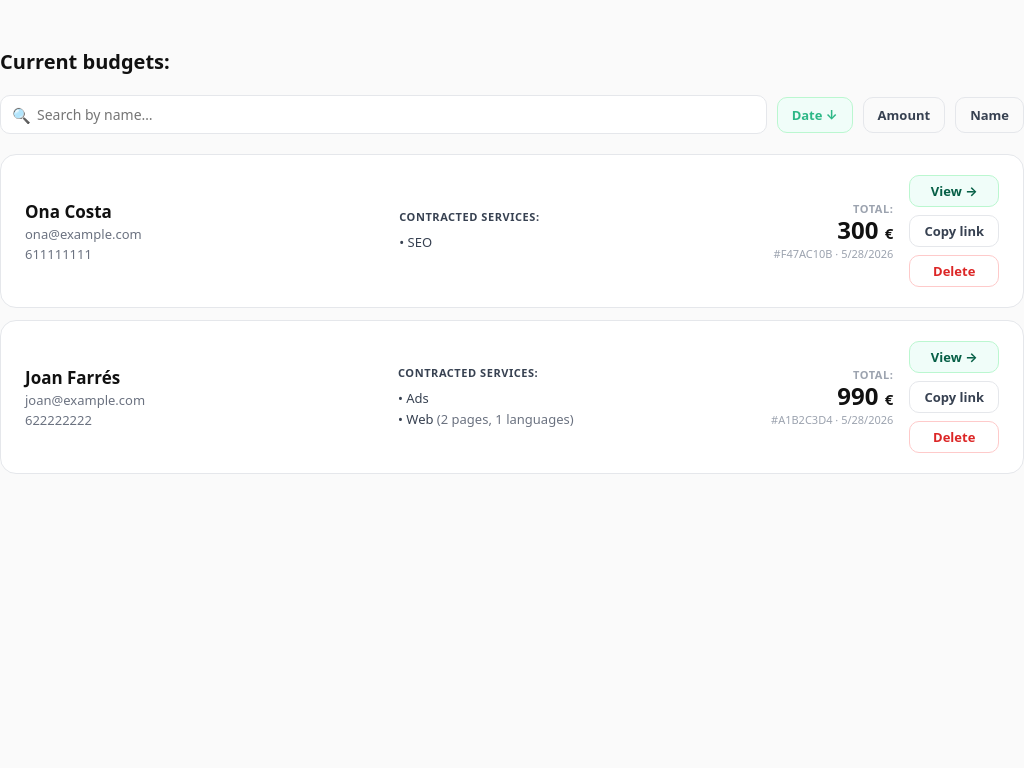
Test: BudgetList › shows the delete modal when delete button is clicked
Click the button "Delete" in the row of "F47AC10B" at (954, 271), box [909,255,999,287]
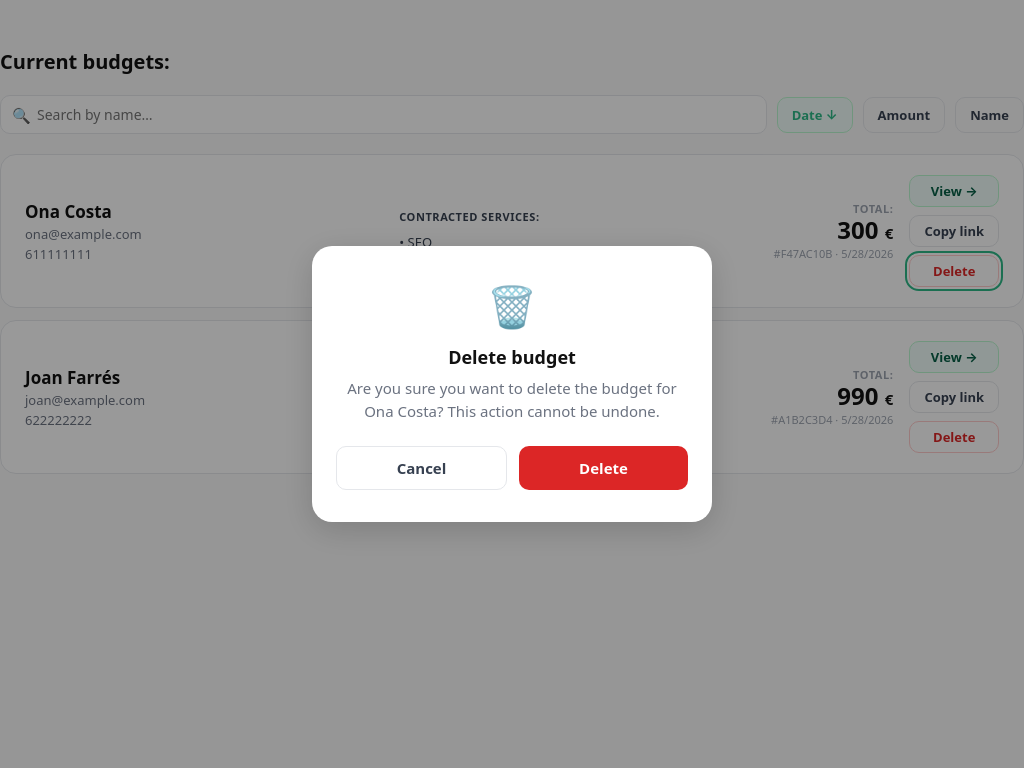
Result: the dialog is shown
Result: the heading "Delete budget" is shown at [448,345,576,369]
